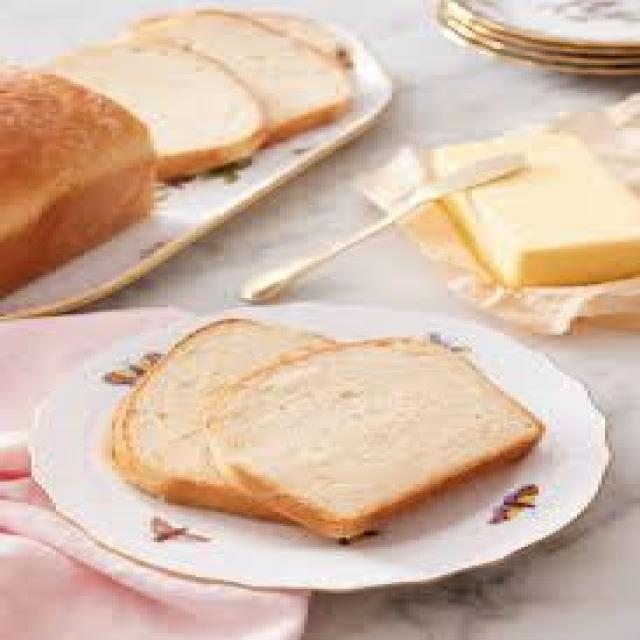Bread: (207, 337, 541, 539), (113, 319, 331, 518), (56, 36, 267, 179), (134, 9, 349, 142)
